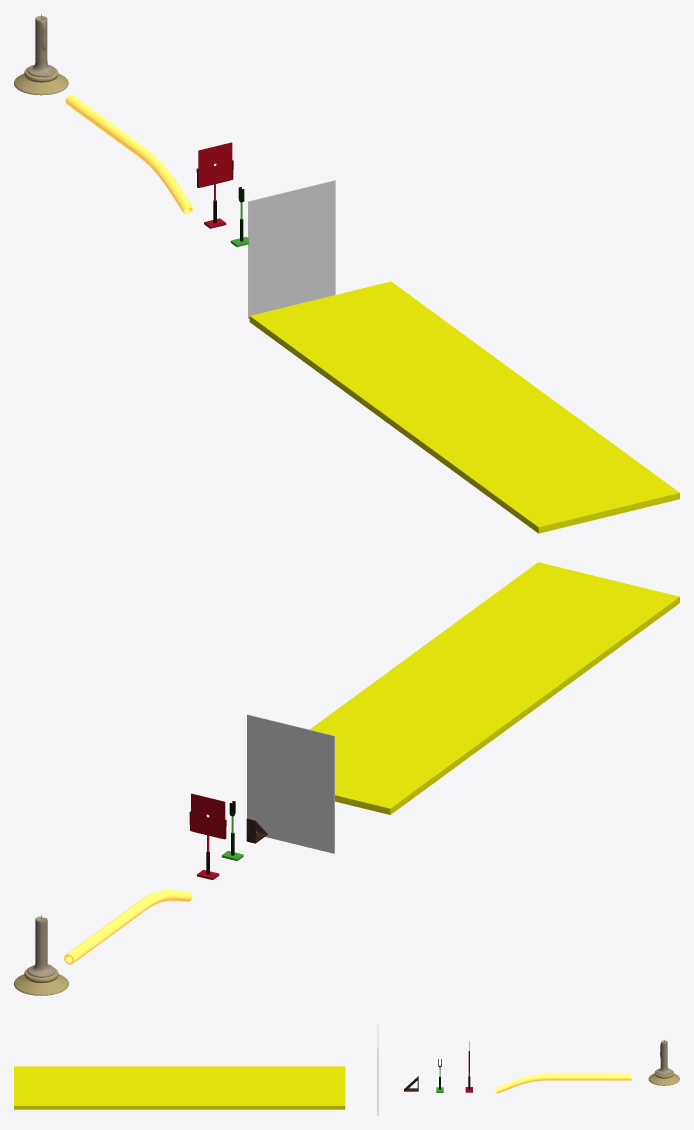
Rendered from ltsl_models.glb.
The picture shows the model from 3 angles, top to bottom: view 1: azimuth 30°, elevation 25°; view 2: azimuth 150°, elevation 25°; view 3: azimuth 270°, elevation 25°; orthographic projection. The views are drawn at different scales.
Visible parts, largest first — view 1: Cube.002, Cube.003, Cylinder.002, Candelabro, cardboard; view 2: Cube.002, Cube.003, Candelabro, Cylinder.002, cardboard; view 3: Cube.002, Cylinder.002, Candelabro, Cube.003.
Boxes of the visible parts, box(x1,y1,x2,y2) form: Cube.002: box(249, 281, 679, 533); Cube.003: box(248, 180, 335, 318); Cylinder.002: box(65, 95, 193, 213); Candelabro: box(14, 14, 68, 95); cardboard: box(198, 142, 232, 186); Cube.002: box(310, 562, 679, 814); Cube.003: box(247, 714, 334, 853); Candelabro: box(14, 914, 68, 995); Cylinder.002: box(64, 890, 192, 964); cardboard: box(191, 793, 225, 837); Cube.002: box(14, 1066, 345, 1109); Cylinder.002: box(495, 1074, 631, 1093); Candelabro: box(648, 1040, 679, 1085); Cube.003: box(377, 1024, 378, 1115).
Size of the model in its own units: 5.12 by 4.06 by 36.42.
Materials: 7 (7 with a texture image).
